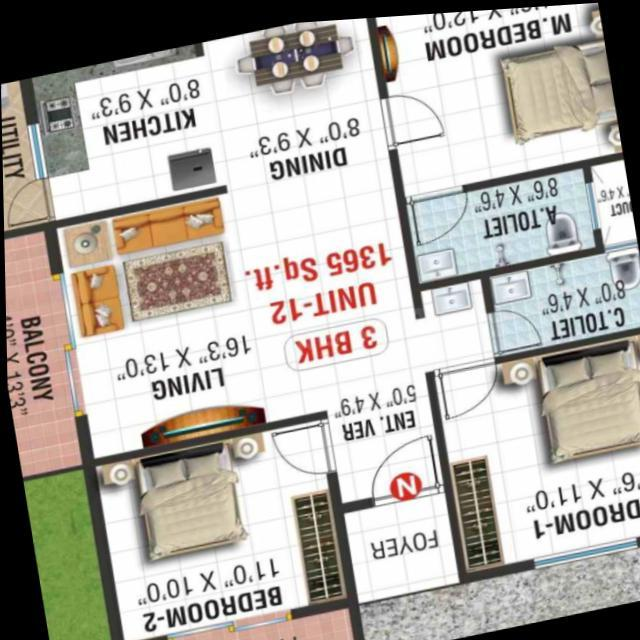Balcony-Sitout: (3, 213, 96, 473), (106, 592, 364, 640)
Bedroom: (77, 403, 358, 640), (422, 325, 640, 584)
Bedroom with Toilet: (369, 2, 636, 287)
Dining: (224, 15, 363, 99)
Enterance-Foyer: (333, 388, 446, 574)
Kitchen: (19, 37, 225, 220)
Living: (44, 182, 266, 463)
Toilet: (396, 162, 604, 289), (474, 239, 640, 361)
Utility: (1, 70, 55, 232)
